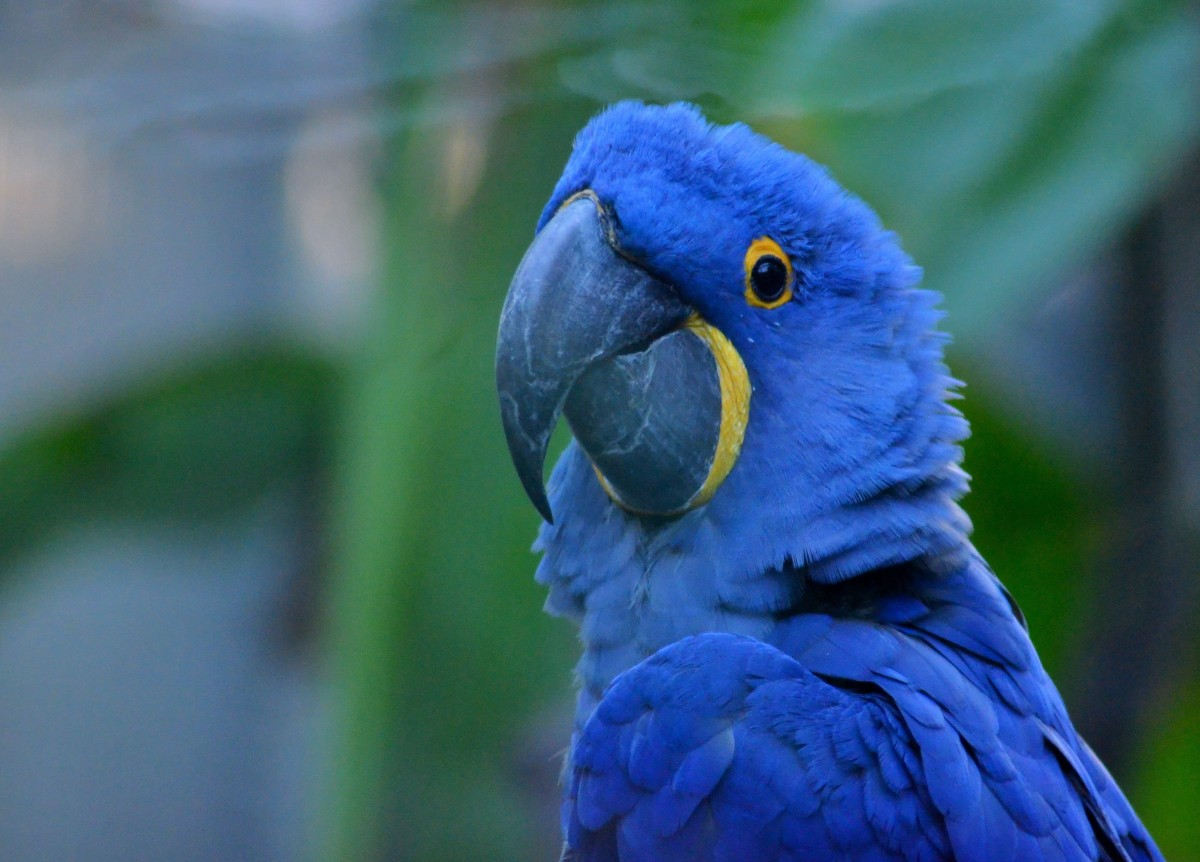guacamaya: (473, 89, 1099, 836)
